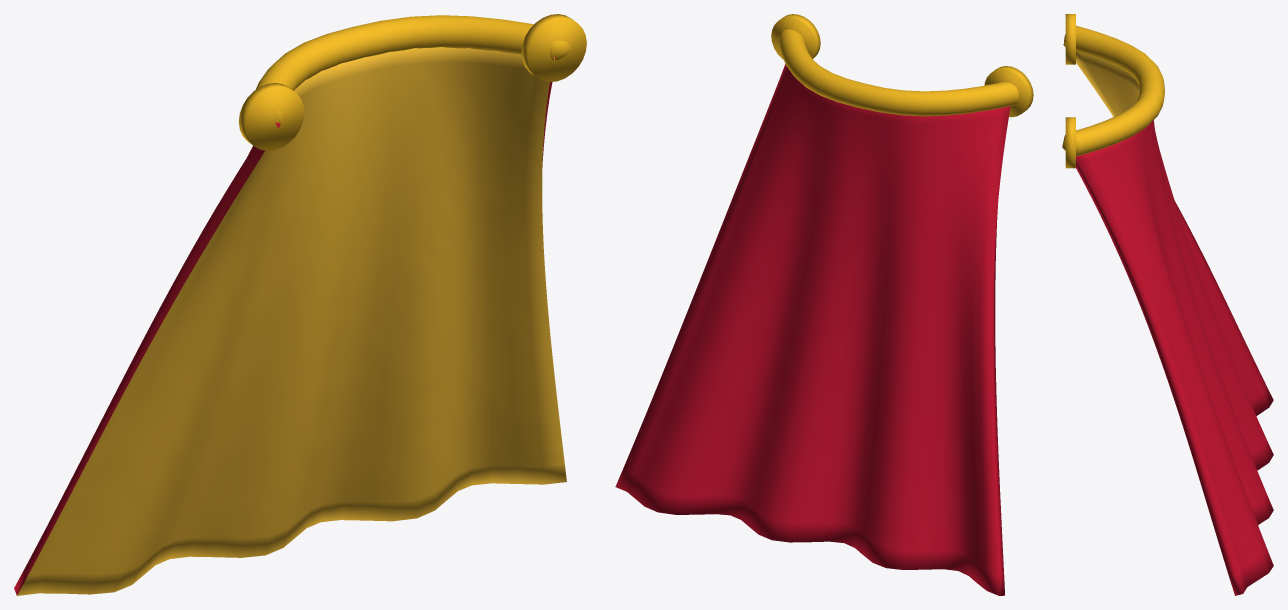
Rendered from capa_heroe.glb.
3 renders of one model, left to right at view 1: azimuth 30°, elevation 25°; view 2: azimuth 150°, elevation 25°; view 3: azimuth 270°, elevation 25°, orthographic. The views are drawn at different scales.
Parts seen in each view (by area): view 1: capa; view 2: capa; view 3: capa.
Boxes of the visible parts, x1=… form: capa: x1=14, y1=14, x2=586, y2=595; capa: x1=615, y1=14, x2=1033, y2=595; capa: x1=1062, y1=14, x2=1273, y2=595.
Size of the model in its own units: 1.81 by 1.87 by 0.8301.
